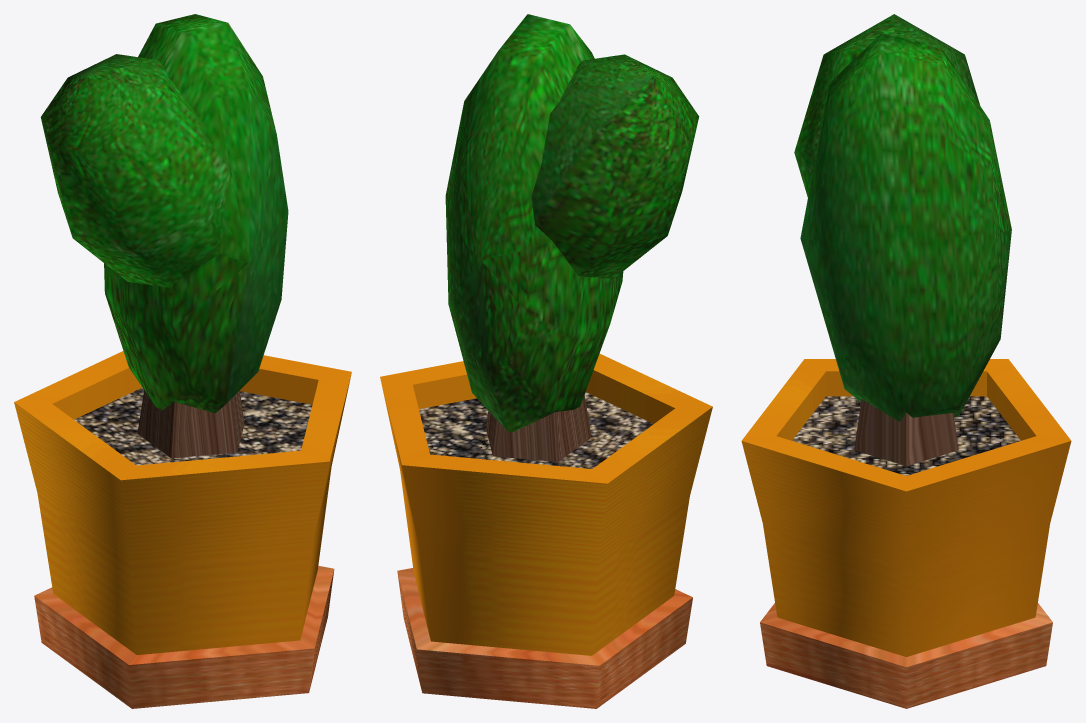
Rendered from plant2.FBX.
3 views of the same model, side by side, from view 1: azimuth 30°, elevation 25°; view 2: azimuth 150°, elevation 25°; view 3: azimuth 270°, elevation 25° (orthographic). The views are drawn at different scales.
Parts seen in each view (by area): view 1: Cylinder001, Sphere003, Sphere004, Object002, Object001, Object003; view 2: Cylinder001, Sphere003, Sphere004, Object002, Object001, Object003; view 3: Sphere003, Cylinder001, Object002, Object001, Sphere004, Object003.
Boxes of the visible parts, x1,y1,x2,y2 form: Cylinder001: (14,351,351,654); Sphere003: (104,14,288,413); Sphere004: (40,54,230,287); Object002: (34,565,334,708); Object001: (74,387,312,465); Object003: (137,390,244,458); Cylinder001: (380,353,712,655); Sphere003: (445,14,623,432); Sphere004: (531,54,699,279); Object002: (397,568,692,708); Object001: (419,392,653,468); Object003: (486,395,591,461); Sphere003: (800,33,1011,421); Cylinder001: (741,359,1071,656); Object002: (760,603,1052,708); Object001: (792,396,1020,475); Sphere004: (794,14,979,197); Object003: (854,399,958,466).
Bounding box in the file's own units: 820 × 1611 × 799.
Materials: 5 (5 with a texture image).
